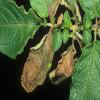Potato leaf late blight: (19, 26, 55, 94), (48, 43, 78, 85), (45, 0, 81, 22)
